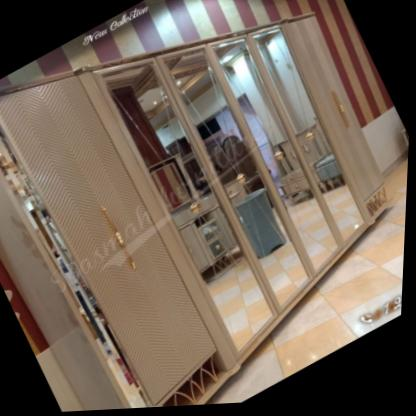Ceramic floor: (211, 161, 410, 407)
Closet: (0, 18, 391, 412)
